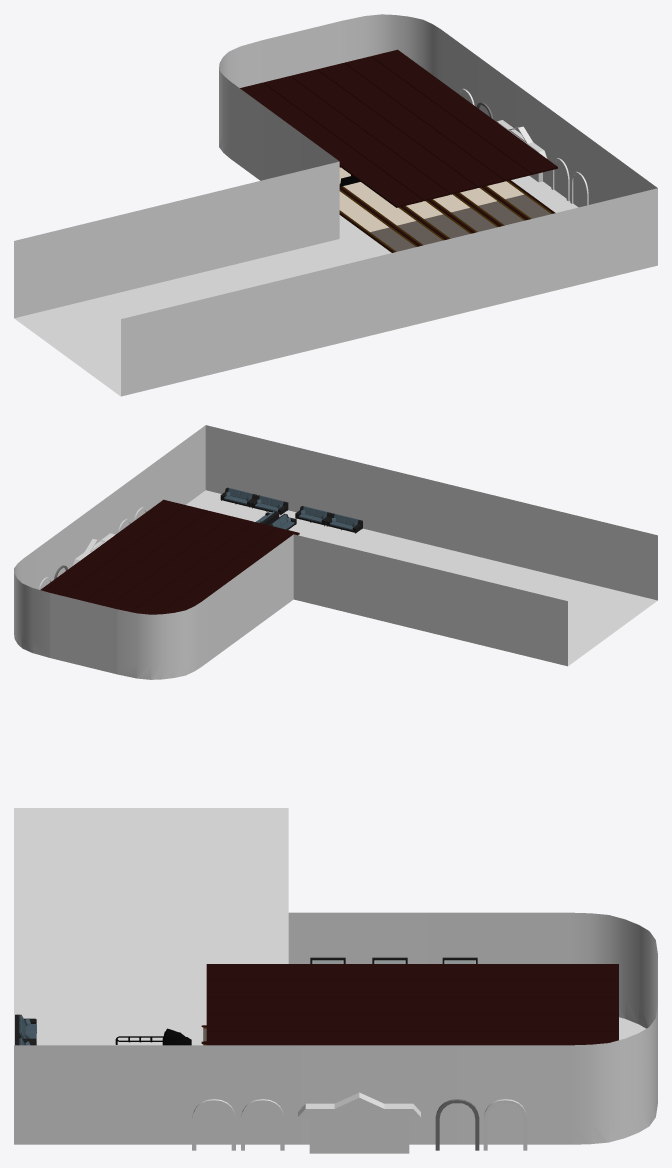
File: BowlingAlleyTX.fbx
3 renders of one model, top to bottom at view 1: azimuth 30°, elevation 25°; view 2: azimuth 150°, elevation 25°; view 3: azimuth 270°, elevation 25°, orthographic. The views are drawn at different scales.
Parts seen in each view (by area): view 1: Plane, Cube; view 2: Plane, Cube, model.003, model.001, model.002, model; view 3: Plane, Cube, Cube.002.
Part boxes in pixels (x1,y1,x2,y2): Plane: (14,14,657,396); Cube: (240,49,557,252); Plane: (14,425,657,679); Cube: (40,499,299,614); model.003: (326,513,362,533); model.001: (251,495,288,515); model.002: (295,506,332,526); model: (220,487,257,507); Plane: (14,808,657,1144); Cube: (201,964,618,1045); Cube.002: (298,1092,420,1153).
Bounding box in the file's own units: 4564 × 657 × 3630.
